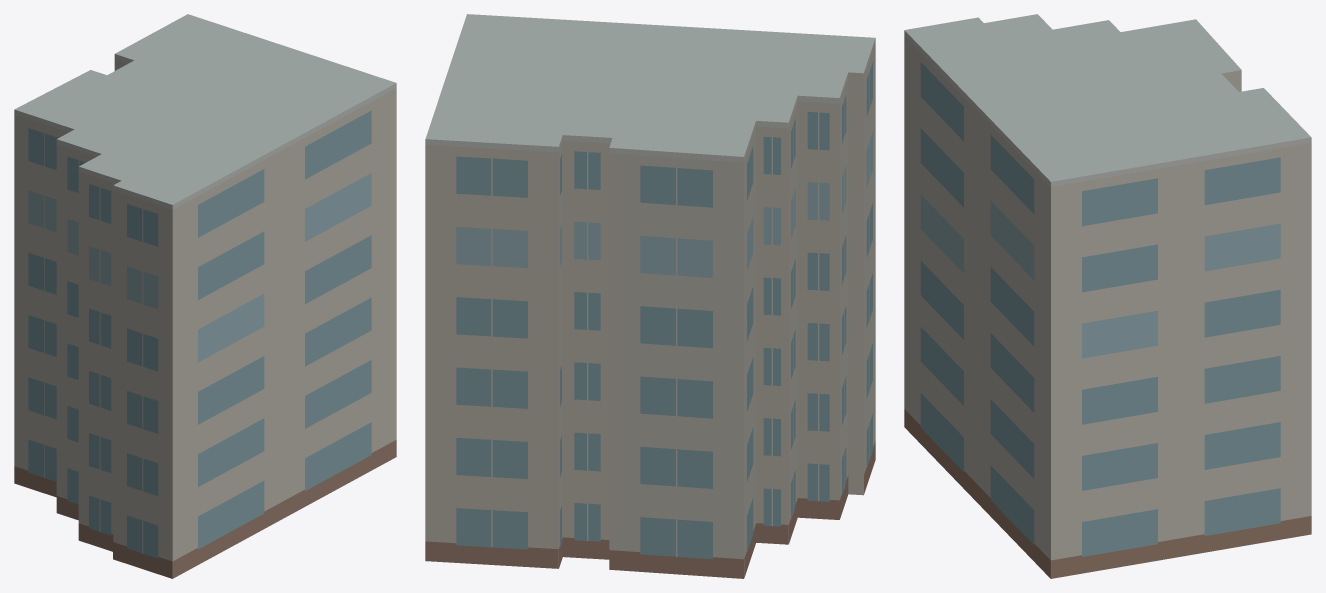
Rendered from survey-upis-32915842.glb.
3 renders of one model, left to right at view 1: azimuth 30°, elevation 25°; view 2: azimuth 150°, elevation 25°; view 3: azimuth 270°, elevation 25°, orthographic. The views are drawn at different scales.
Parts seen in each view (by area): view 1: survey-upis-32915842.tmp; view 2: survey-upis-32915842.tmp; view 3: survey-upis-32915842.tmp.
Part boxes in pixels (bbox=[...]): survey-upis-32915842.tmp: bbox=[14, 14, 396, 578]; survey-upis-32915842.tmp: bbox=[425, 14, 875, 578]; survey-upis-32915842.tmp: bbox=[904, 14, 1311, 578].
Bounding box in the file's own units: 16.61 × 18.3 × 17.02.
